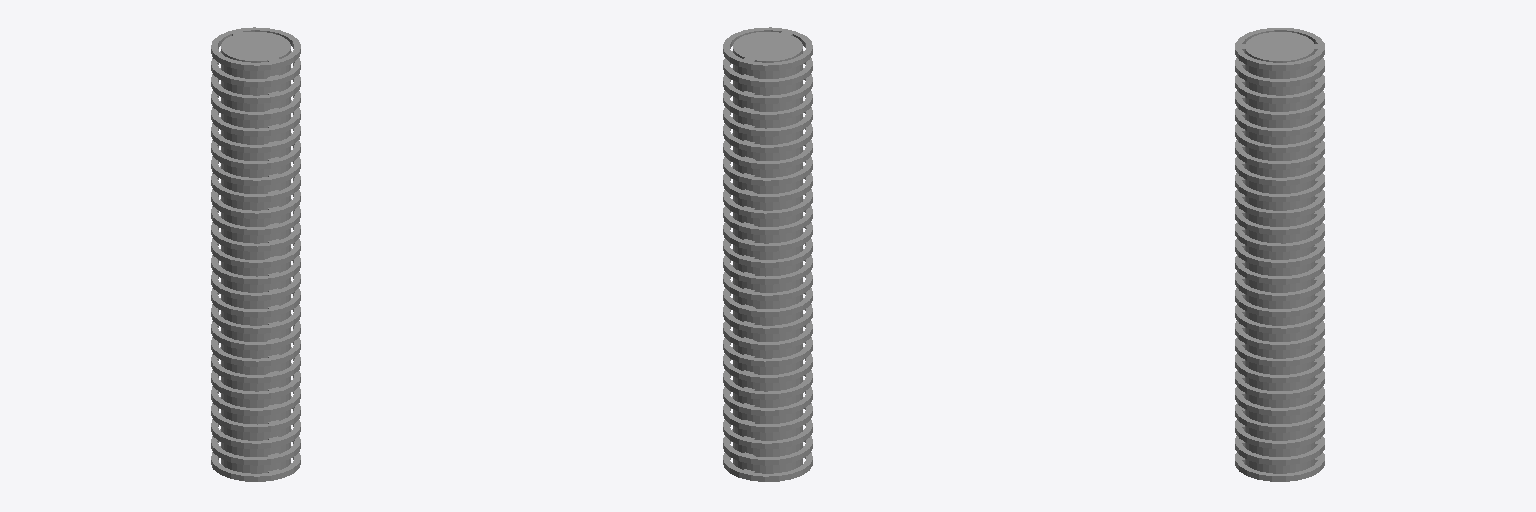
File: teslaStand.obj
The picture shows the model from 3 angles: view 1: azimuth 30°, elevation 25°; view 2: azimuth 150°, elevation 25°; view 3: azimuth 270°, elevation 25°; orthographic projection.
Parts seen in each view (by area): view 1: Circle.000_Circle.002; view 2: Circle.000_Circle.002; view 3: Circle.000_Circle.002.
Part boxes in pixels (bbox=[...]): Circle.000_Circle.002: bbox=[211, 27, 300, 481]; Circle.000_Circle.002: bbox=[723, 27, 812, 481]; Circle.000_Circle.002: bbox=[1235, 28, 1324, 481].
Size of the model in its own units: 0.1941 by 1 by 0.1941.